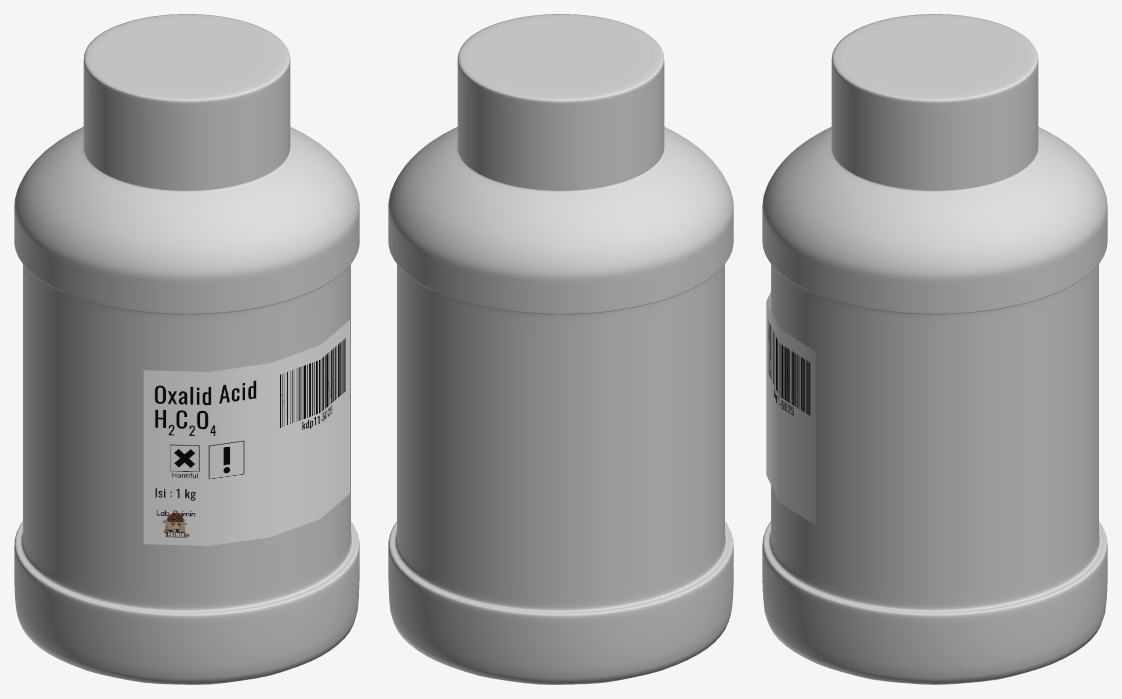
The model's file is bottle_oxalic_acid.fbx.
3 renders of one model, left to right at view 1: azimuth 30°, elevation 25°; view 2: azimuth 150°, elevation 25°; view 3: azimuth 270°, elevation 25°, orthographic.
Parts seen in each view (by area): view 1: Plastic Bottle, Plastic Label, Plastic Bottle Cup; view 2: Plastic Bottle, Plastic Bottle Cup; view 3: Plastic Bottle, Plastic Bottle Cup, Plastic Label.
Boxes of the visible parts, x1,y1,x2,y2 form: Plastic Bottle: (14, 127, 359, 684); Plastic Label: (143, 320, 349, 545); Plastic Bottle Cup: (83, 14, 290, 190); Plastic Bottle: (388, 127, 733, 684); Plastic Bottle Cup: (457, 14, 664, 190); Plastic Bottle: (762, 127, 1107, 684); Plastic Bottle Cup: (831, 14, 1038, 190); Plastic Label: (766, 292, 815, 524).
Size of the model in its own units: 9.26 by 16.58 by 9.26.
